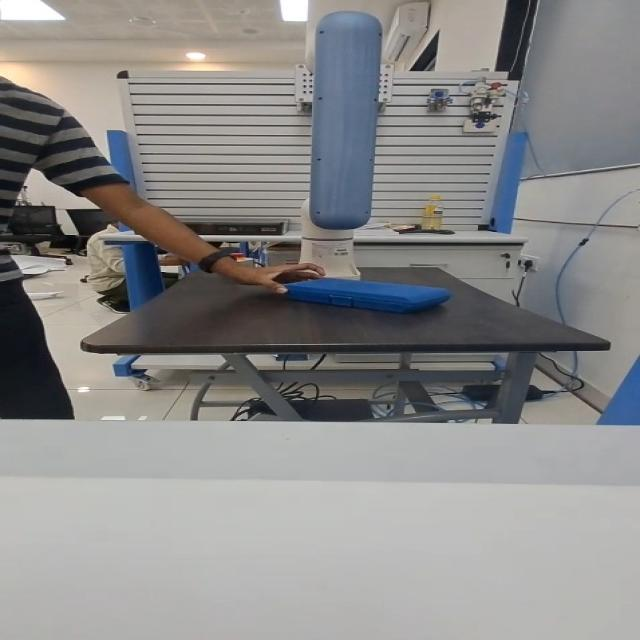top-surface: (305, 279, 417, 294)
